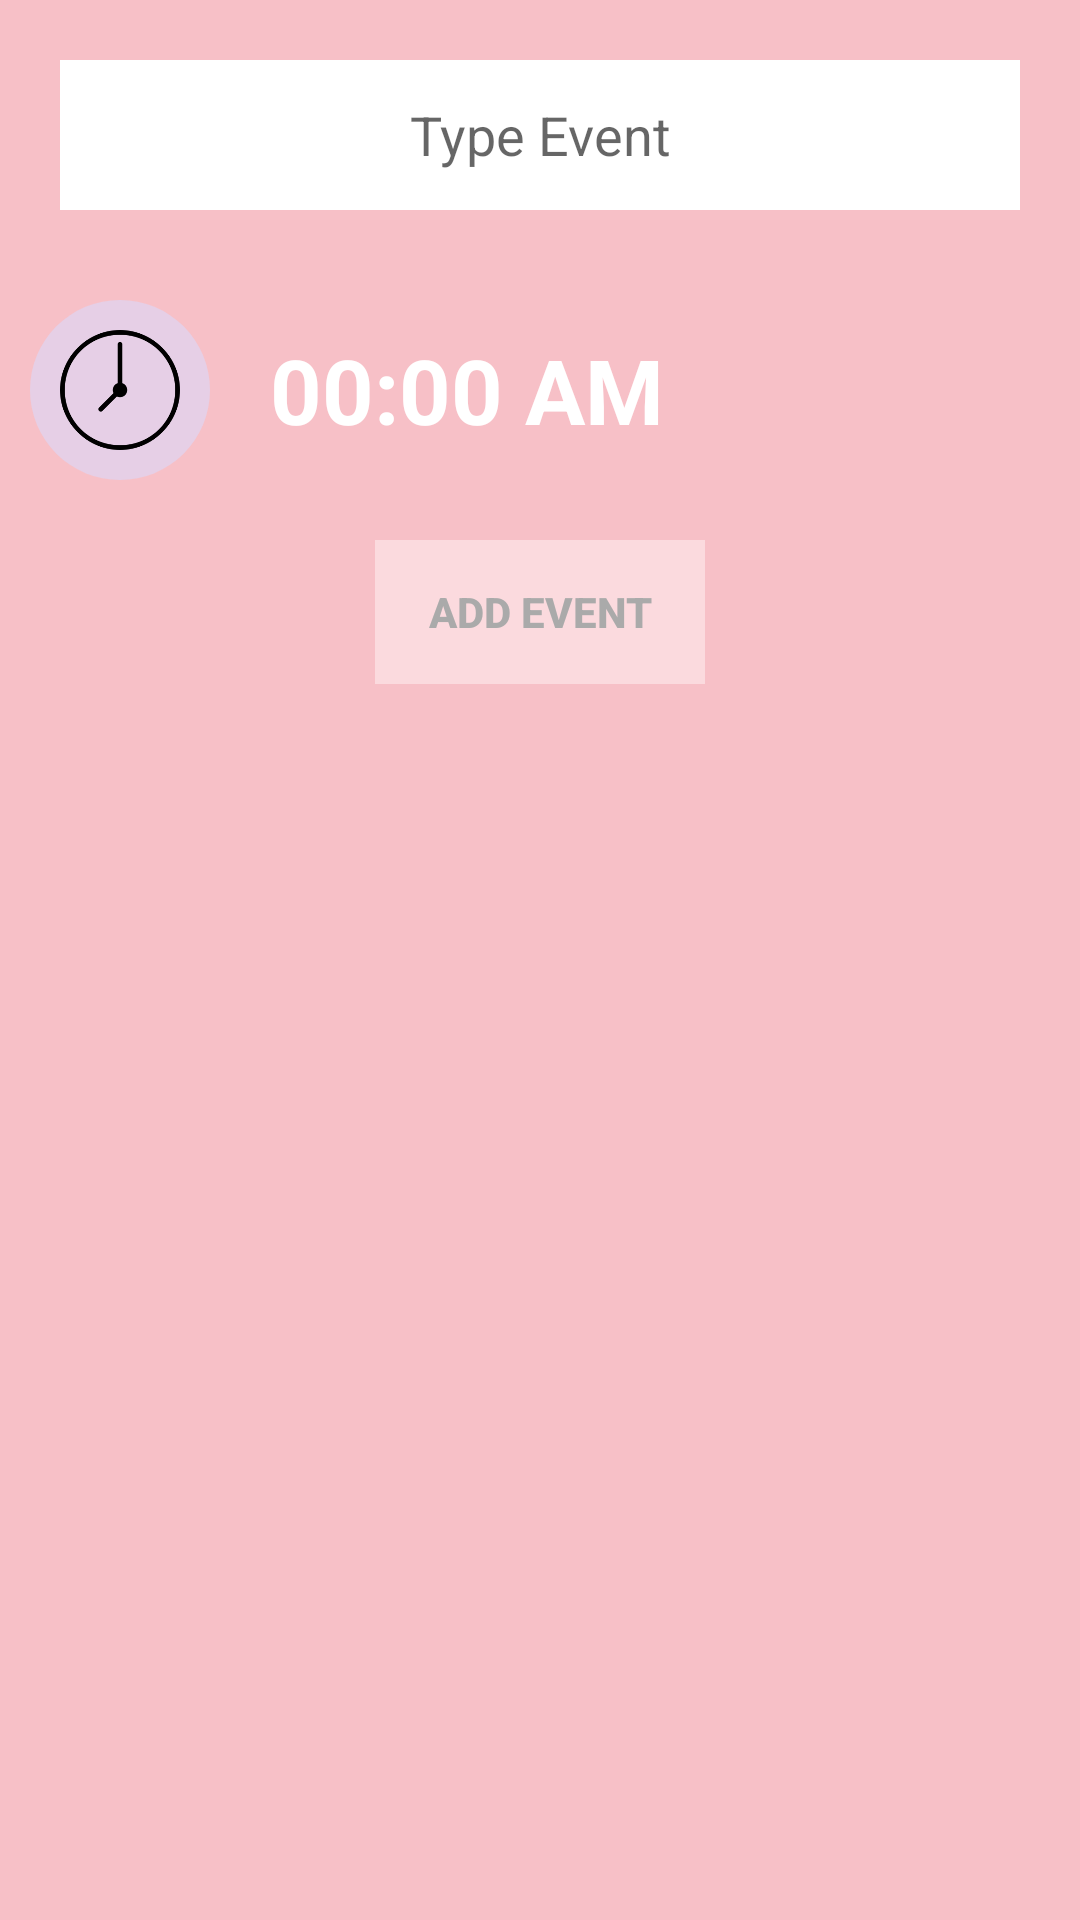

Icons on this 1080px x 1920px Android screen, each with the point to tap as point (x, y):
clock: point (120, 390)
